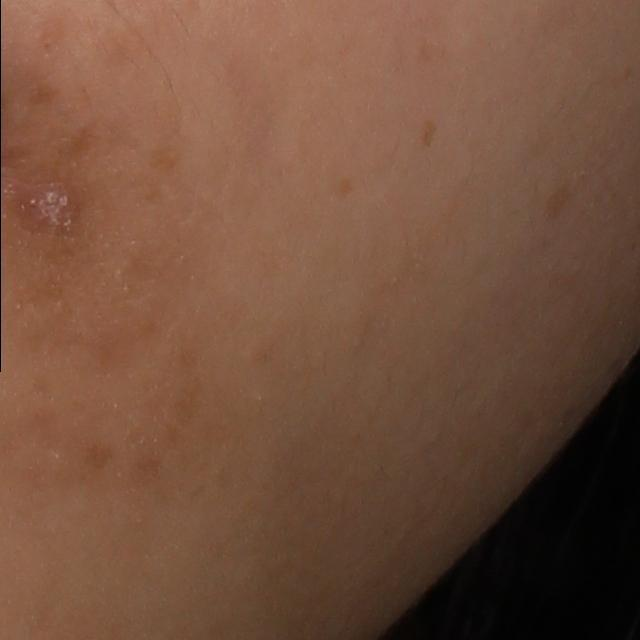melasma: (540, 175, 572, 225), (417, 119, 436, 149)
